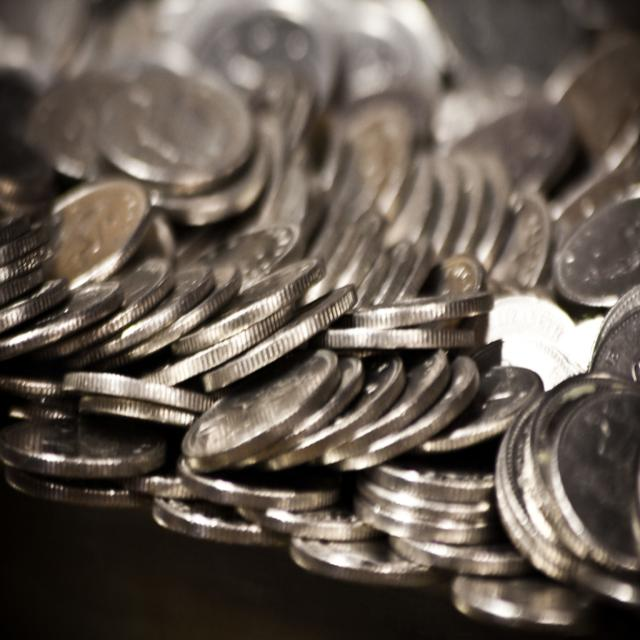Coin: (0, 0, 640, 630)
